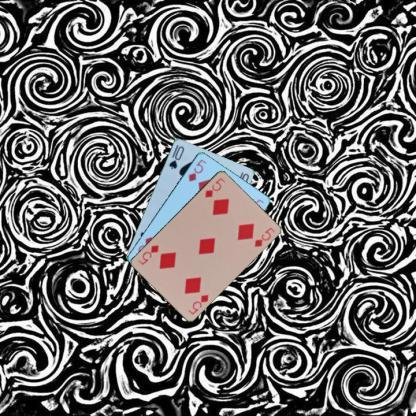10s: (166, 141, 186, 170)
5d: (201, 175, 226, 199), (186, 156, 208, 182), (186, 292, 209, 316)
